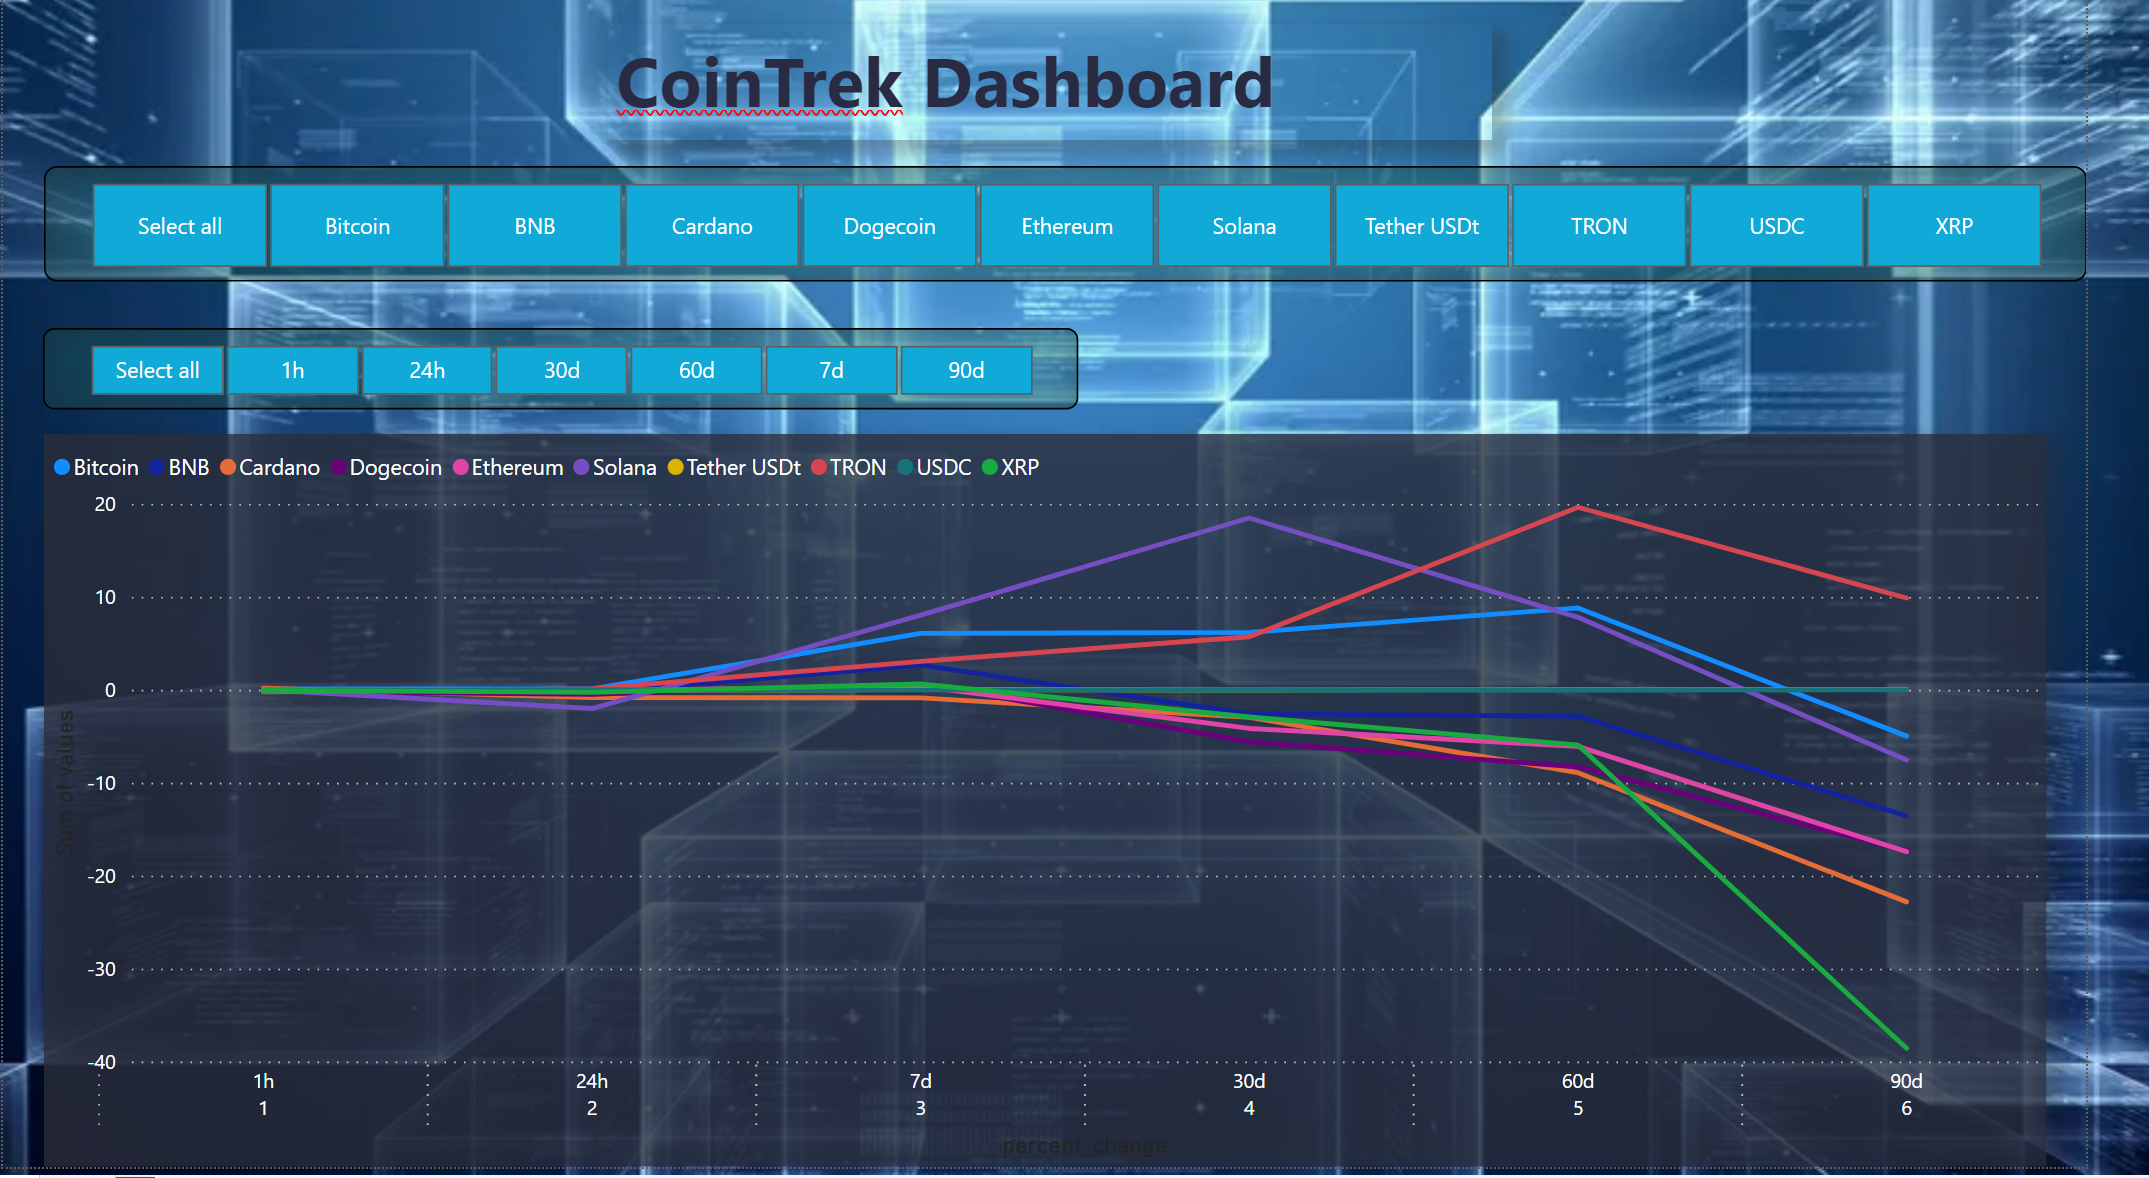

What the dashboard file says about the page in this screenshot:
{"tool":"powerbi","page":{"name":"Page 1","canvas":[1280,720],"ordinal":0},"visuals":[{"type":"slicer","fields":{"Values":["td.name"]},"box":[25.2,105.1,1255.1,71.3],"z":0},{"type":"slicer","fields":{"Values":["td.percent_change"]},"box":[24.9,204.7,635.7,49.7],"z":1000},{"type":"lineChart","fields":{"Category":["td.custom_sort","td.percent_change"],"Y":["Sum(td.values)"],"Series":["td.name"]},"box":[25,269.6,1230,449.9],"z":2000},{"type":"textbox","box":[371.5,17.7,542.9,70.6],"z":3000}]}

Visuals, with their boxes in screenshot pixels (x1, y1, x2, y2), scaled from the page's 1280x720 canvas onto the 2149x1178 screenshot:
slicer - td.name: detection(42, 172, 2148, 289)
slicer - td.percent_change: detection(42, 335, 1109, 416)
lineChart - td.custom_sort x td.percent_change: detection(42, 441, 2107, 1177)
textbox: detection(624, 29, 1535, 144)
